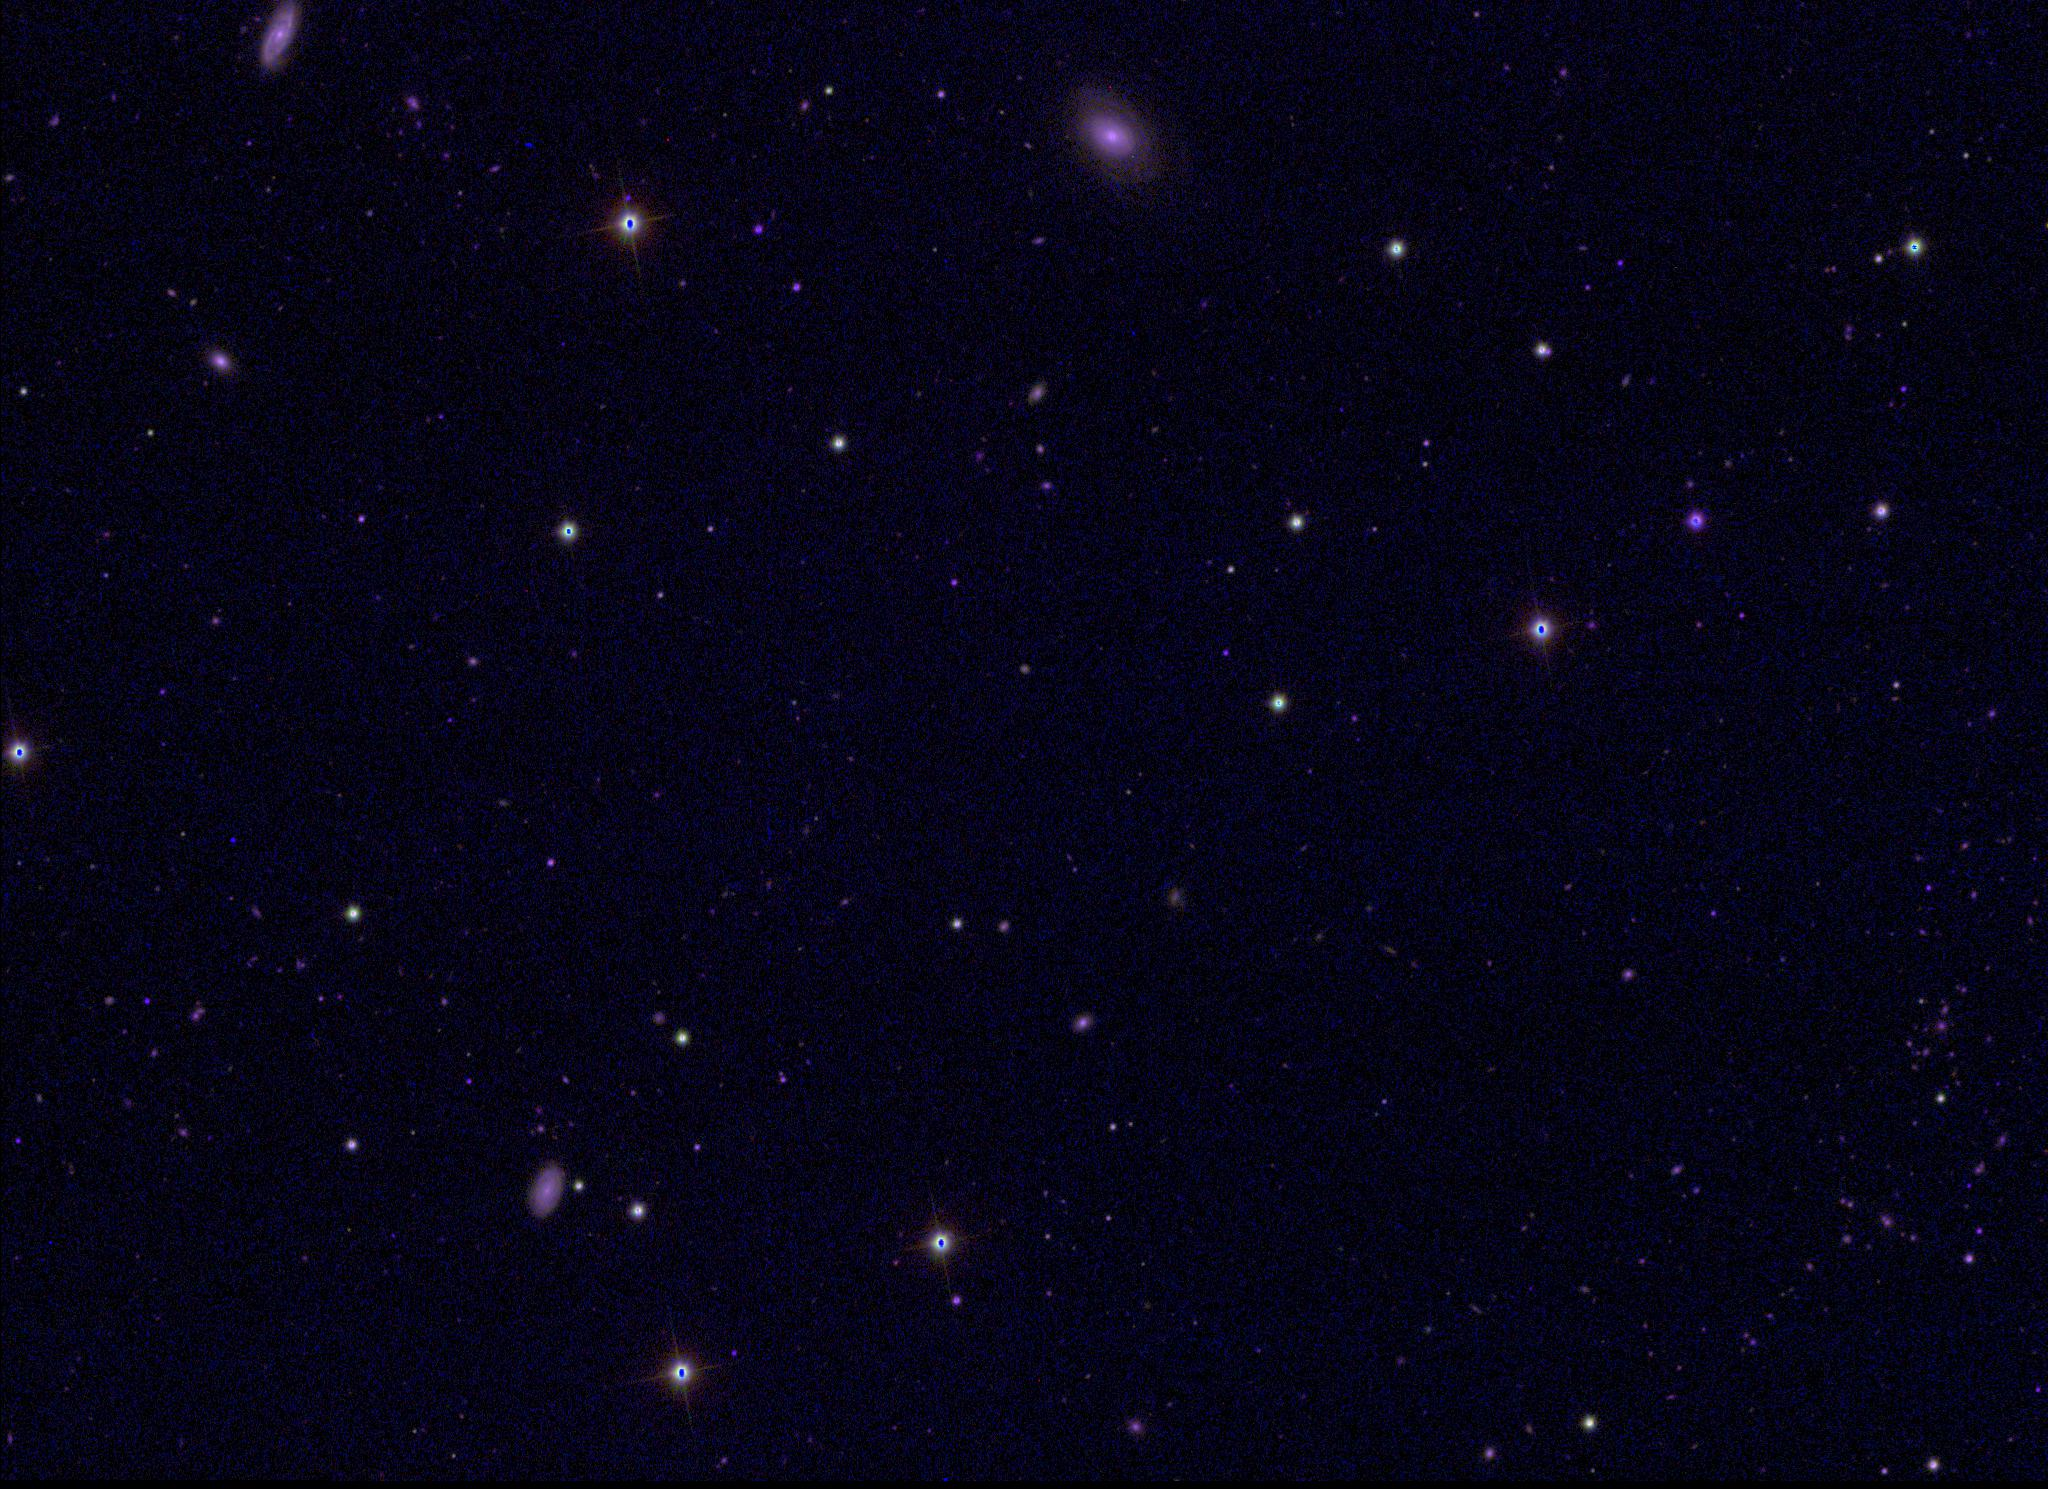L: (226, 834, 240, 846)
